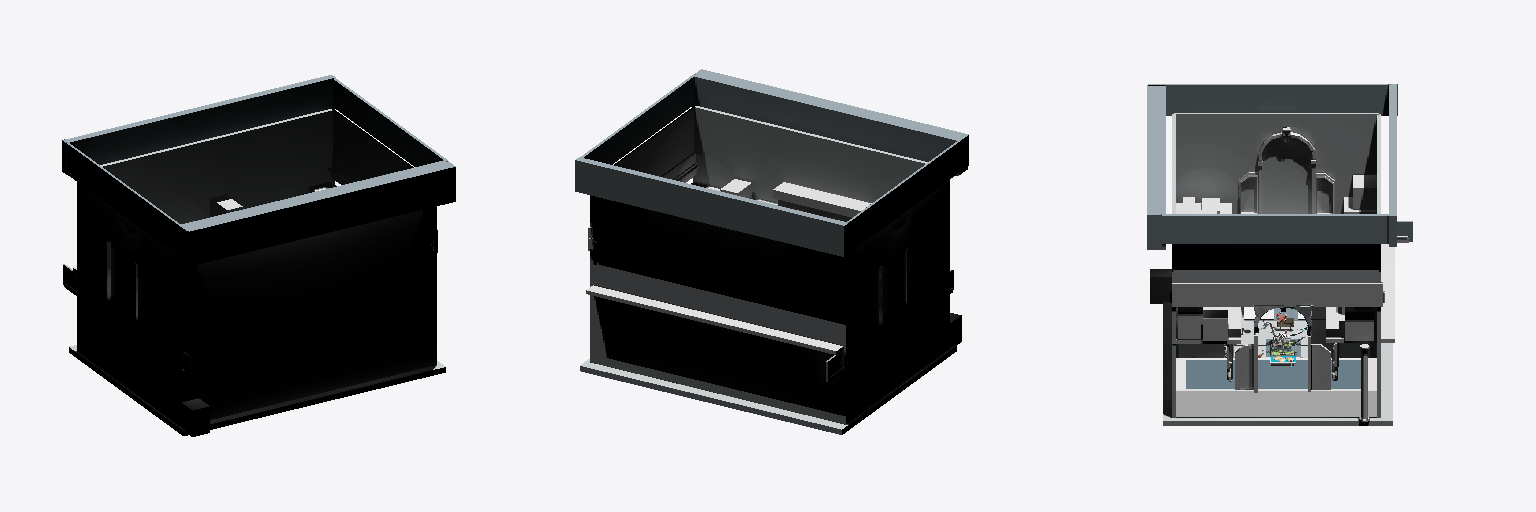
3 renders of one model, left to right at view 1: azimuth 30°, elevation 25°; view 2: azimuth 150°, elevation 25°; view 3: azimuth 270°, elevation 25°, orthographic.
Parts seen in each view (by area): view 1: mesh[number redacted]; view 2: mesh[number redacted]; view 3: mesh[number redacted].
Part boxes in pixels (bbox=[...]): mesh[number redacted]: bbox=[62, 75, 455, 436]; mesh[number redacted]: bbox=[575, 69, 968, 434]; mesh[number redacted]: bbox=[1147, 84, 1412, 425].
Bounding box in the file's own units: 9.61 × 7.19 × 8.2.
Materials: 22 (1 with a texture image).